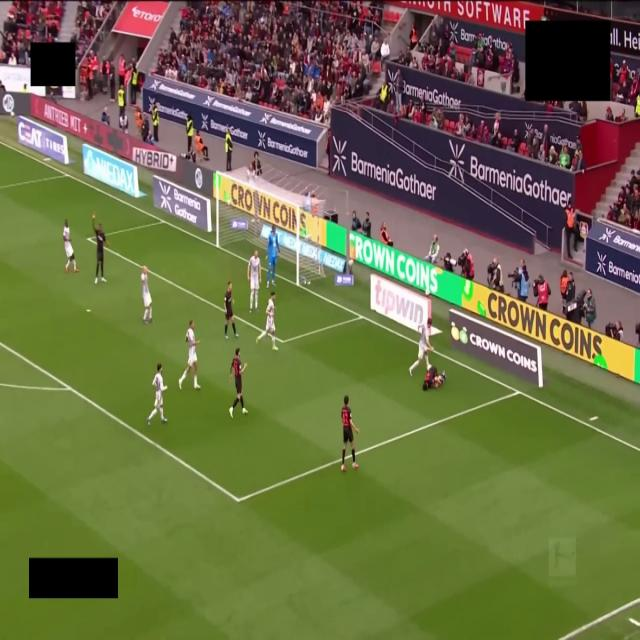player: (178, 320, 200, 389), (409, 319, 433, 375), (256, 292, 278, 351), (341, 396, 358, 471), (229, 348, 247, 417), (148, 364, 167, 423), (92, 214, 108, 283), (247, 251, 261, 312), (224, 281, 238, 339), (267, 225, 280, 287), (63, 220, 78, 272), (141, 266, 152, 323), (423, 366, 445, 391)
